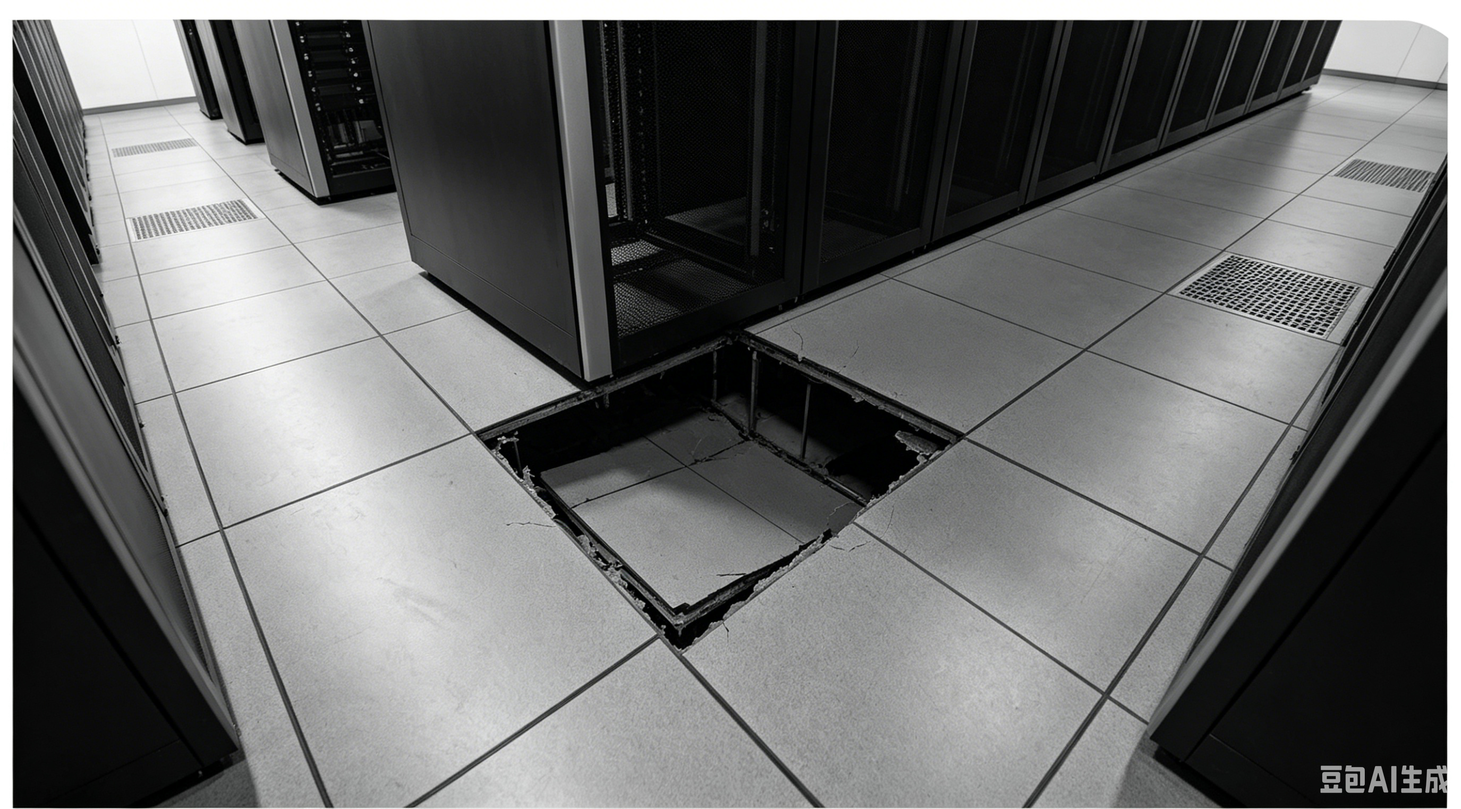floor_defect: (450, 337, 965, 645)
